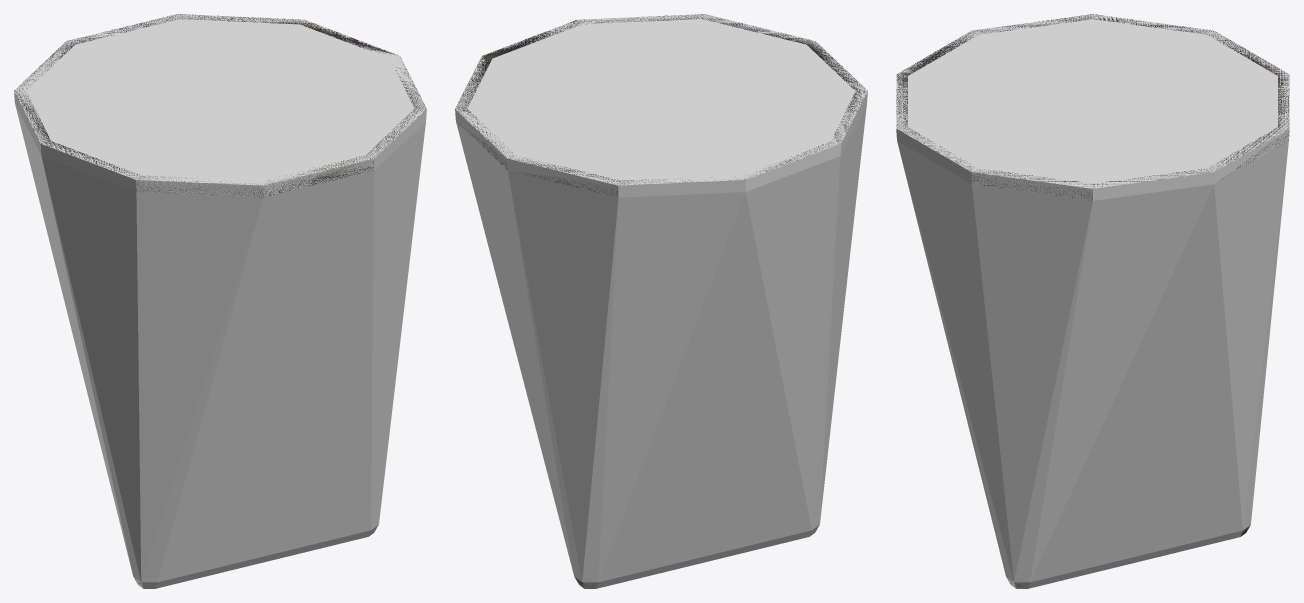
File: brazier_wall.low.webp.glb
The picture shows the model from 3 angles, left to right: view 1: azimuth 30°, elevation 25°; view 2: azimuth 150°, elevation 25°; view 3: azimuth 270°, elevation 25°; orthographic projection.
Parts seen in each view (by area): view 1: COL, LOD1_body; view 2: COL, LOD1_body; view 3: COL, LOD1_body.
Part boxes in pixels (<box>): COL: <box>14,14,426,588</box>; LOD1_body: <box>14,14,425,585</box>; COL: <box>455,14,867,588</box>; LOD1_body: <box>455,14,866,588</box>; COL: <box>896,14,1289,588</box>; LOD1_body: <box>896,14,1289,588</box>.
Bounding box in the file's own units: 0.9041 × 1.05 × 0.8598.
2 materials, 1 textured.
